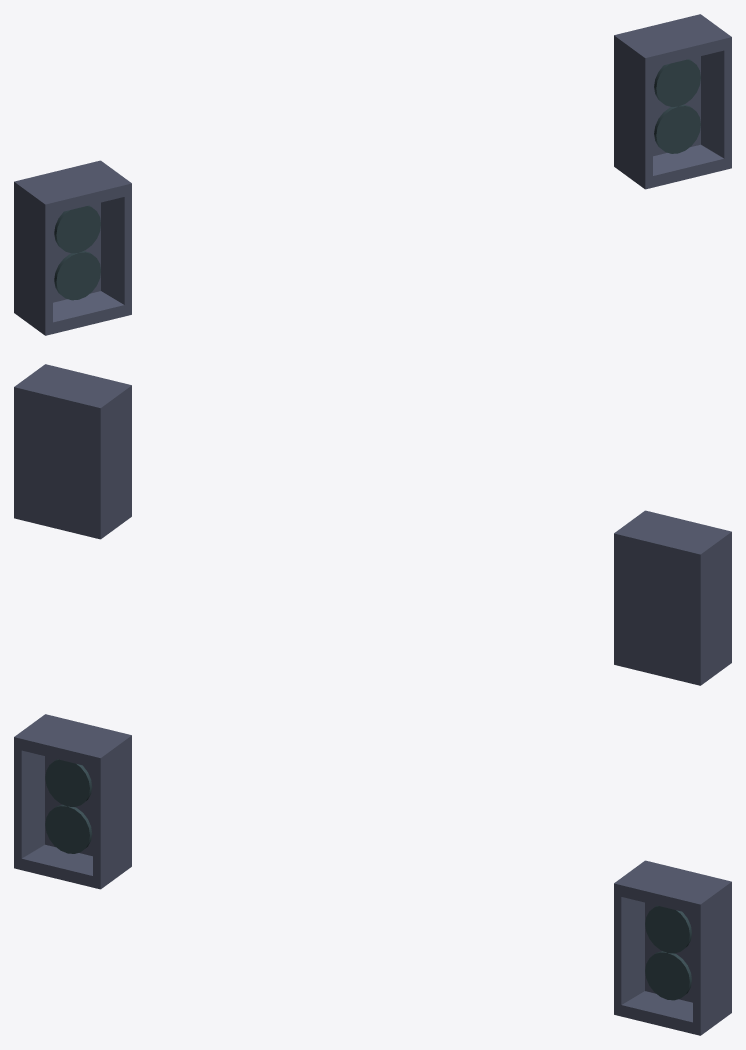
File: 3columns.fbx
The picture shows the model from 3 angles, top to bottom: view 1: azimuth 30°, elevation 25°; view 2: azimuth 150°, elevation 25°; view 3: azimuth 330°, elevation 25°; orthographic projection.
Parts seen in each view (by area): view 1: 3columns; view 2: 3columns; view 3: 3columns.
Boxes of the visible parts, left/top/right/bottom form: 3columns: left=14, top=14, right=731, bottom=335; 3columns: left=14, top=364, right=731, bottom=685; 3columns: left=14, top=714, right=731, bottom=1035.
Bounding box in the file's own units: 53.81 × 9.83 × 4.26.
